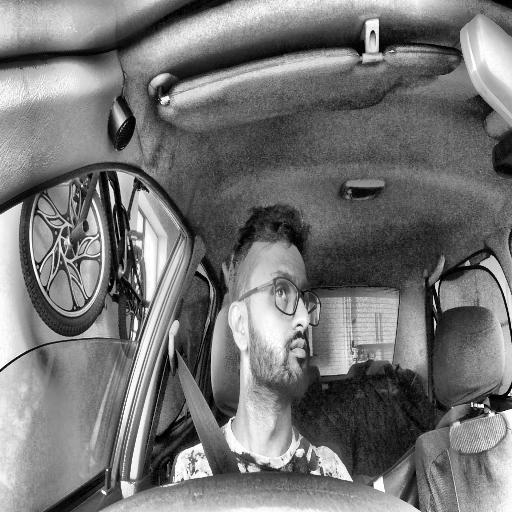awake: (226, 206, 322, 408)
